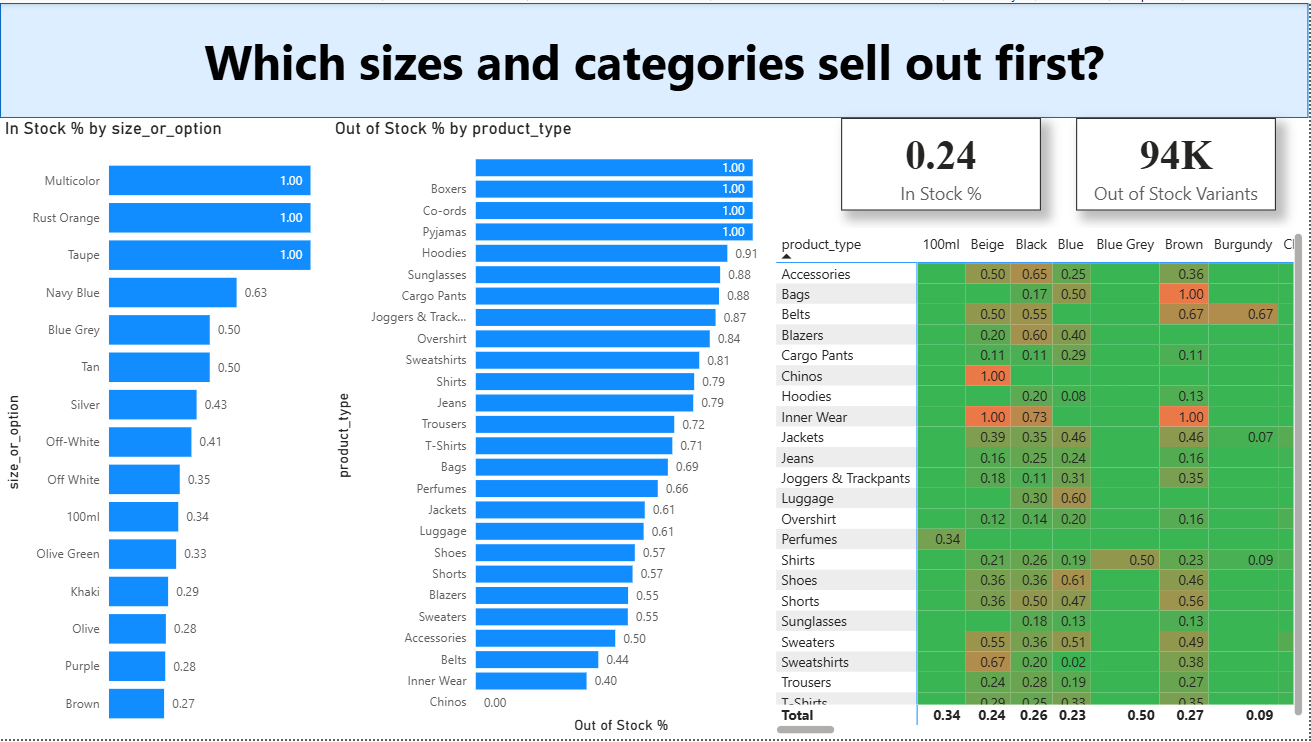

The dashboard page shown, as its layout file describes it:
{"tool":"powerbi","page":{"name":"Availability","canvas":[1280,720],"ordinal":2},"visuals":[{"type":"card","fields":{"Values":["mart dim_product.In Stock %"]},"box":[822.5,112.5,195,90],"z":0},{"type":"card","fields":{"Values":["mart dim_product.Out of Stock Variants"]},"box":[1052.5,112.5,195,90],"z":1},{"type":"clusteredBarChart","fields":{"Category":["mart fact_variant_snapshot.size_or_option"],"Y":["mart dim_product.In Stock %"]},"box":[0,112.5,322.5,607.5],"z":2},{"type":"pivotTable","fields":{"Rows":["mart dim_product.product_type"],"Columns":["mart fact_variant_snapshot.size_or_option"],"Values":["mart dim_product.In Stock %"]},"box":[755,220,525,500],"z":3},{"type":"clusteredBarChart","fields":{"Category":["mart dim_product.product_type"],"Y":["mart dim_product.Out of Stock %"]},"box":[322.5,112.5,432.5,607.5],"z":4},{"type":"shape","box":[0,0,1280,112.5],"z":5}]}

Visuals, with their boxes in screenshot pixels (x1, y1, x2, y2), scaled from the page's 1280x720 canvas onto the 1311x742 screenshot:
card - mart dim_product.In Stock %: 842:116:1042:209
card - mart dim_product.Out of Stock Variants: 1078:116:1278:209
clusteredBarChart - mart fact_variant_snapshot.size_or_option x mart dim_product.In Stock %: 0:116:330:741
pivotTable - mart dim_product.product_type x mart fact_variant_snapshot.size_or_option: 773:227:1310:741
clusteredBarChart - mart dim_product.product_type x mart dim_product.Out of Stock %: 330:116:773:741
shape: 0:0:1310:116
